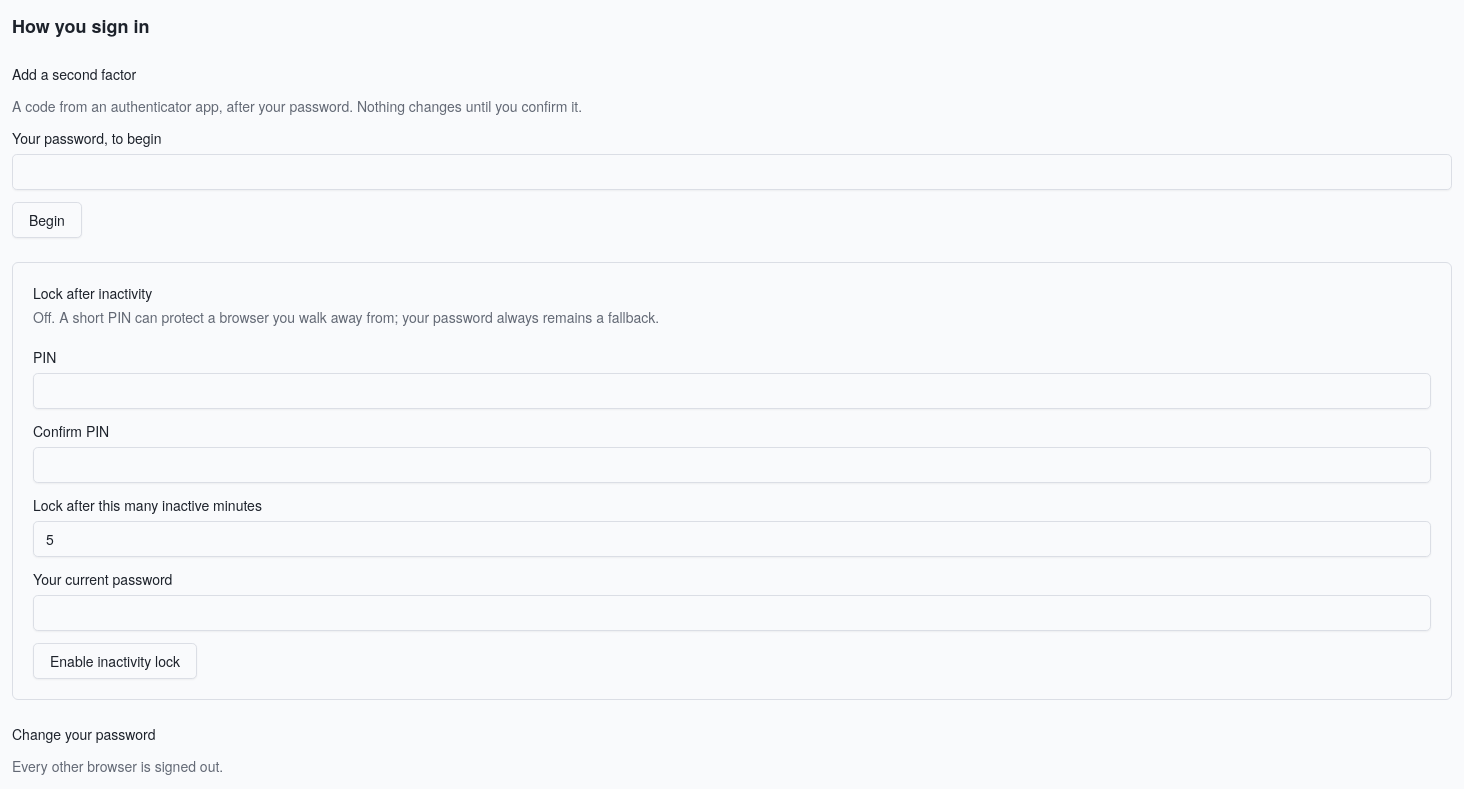
Test: how the owner signs in › does not send PINs that do not match
Type "1234" into the password field labelled "PIN" at (732, 391), box [33,373,1431,409]
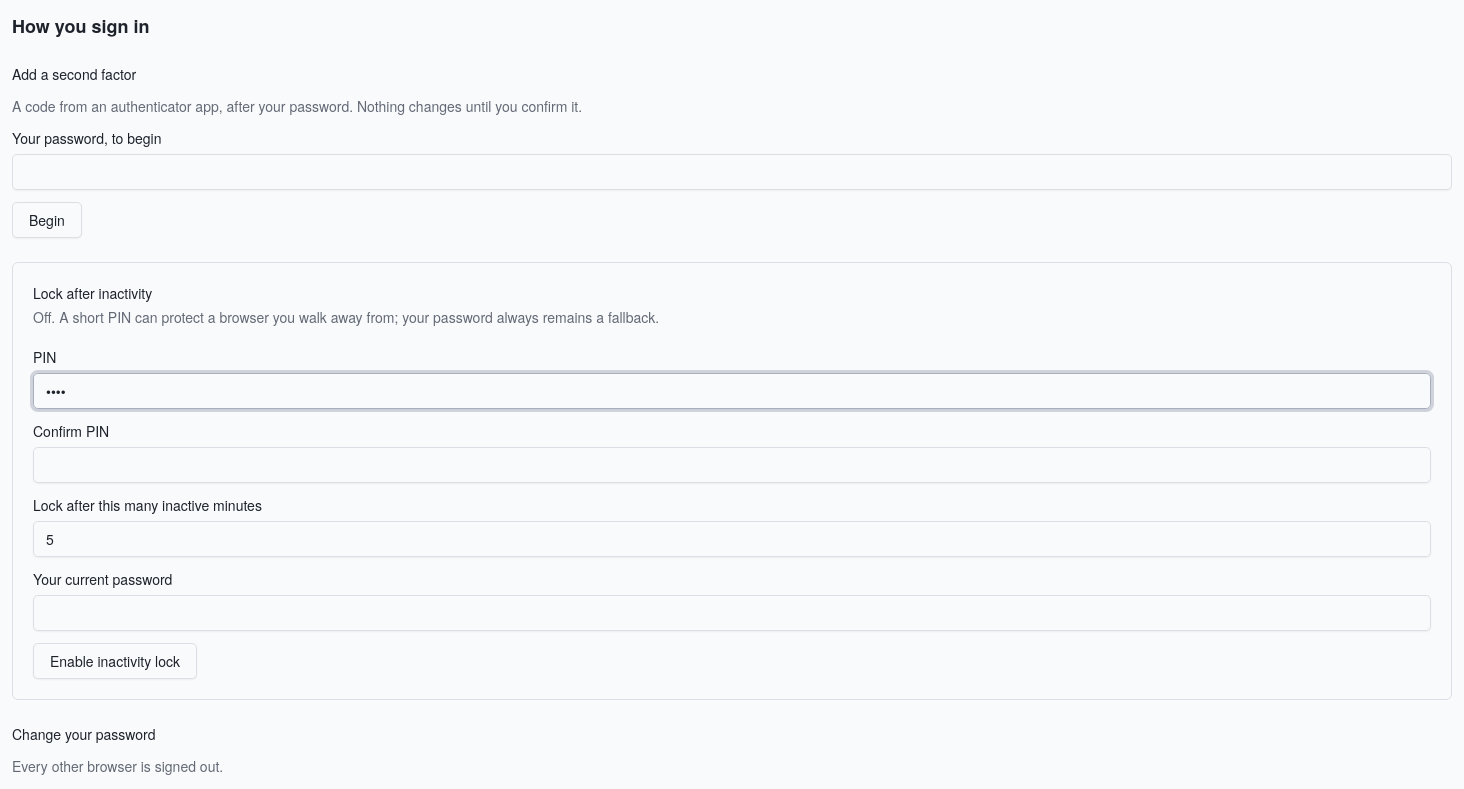
Type "1235" into the password field labelled "Confirm PIN" at (732, 465), box [33,447,1431,483]
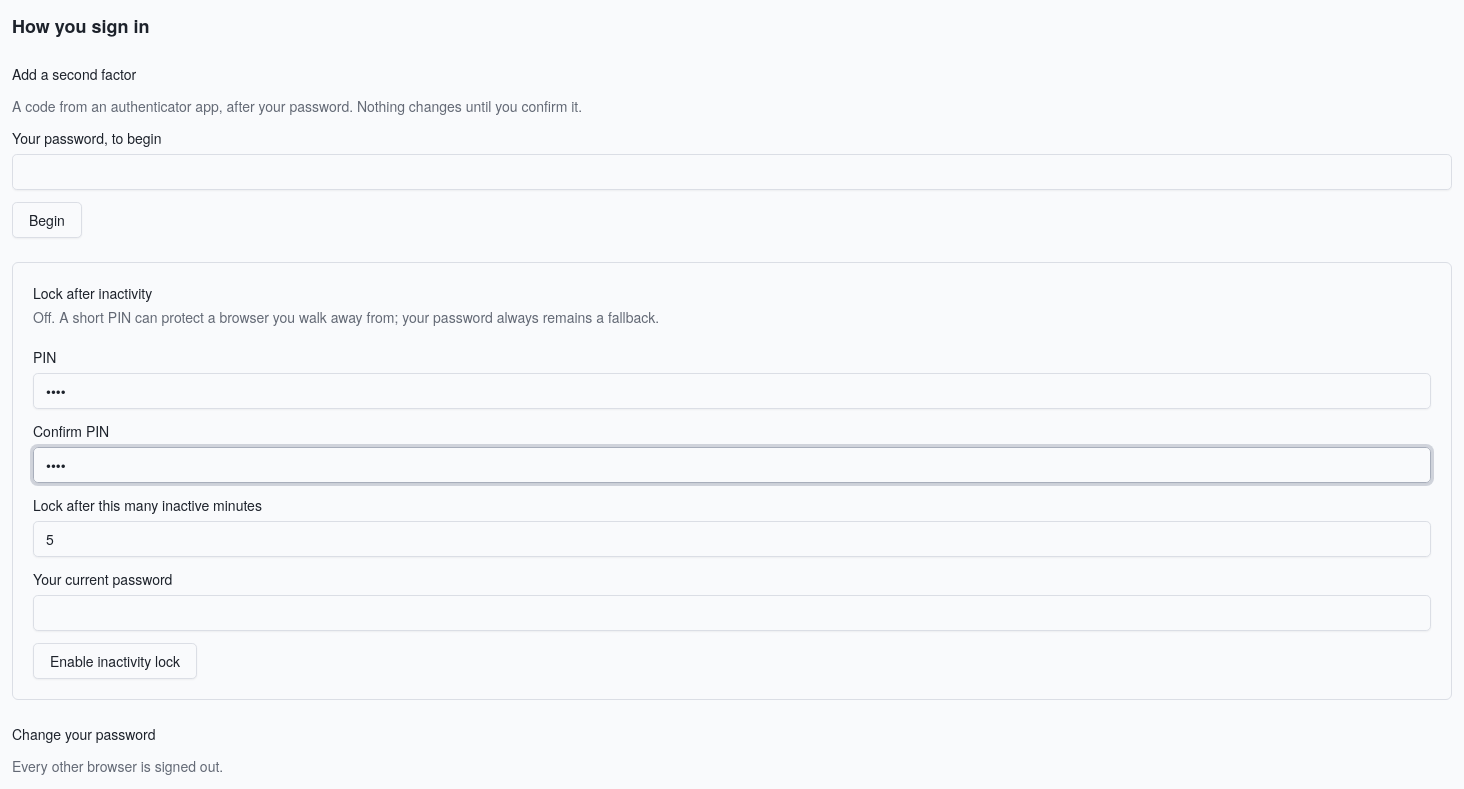
Type "the current password" into the password field labelled "Your current password" at (732, 613), box [33,595,1431,631]
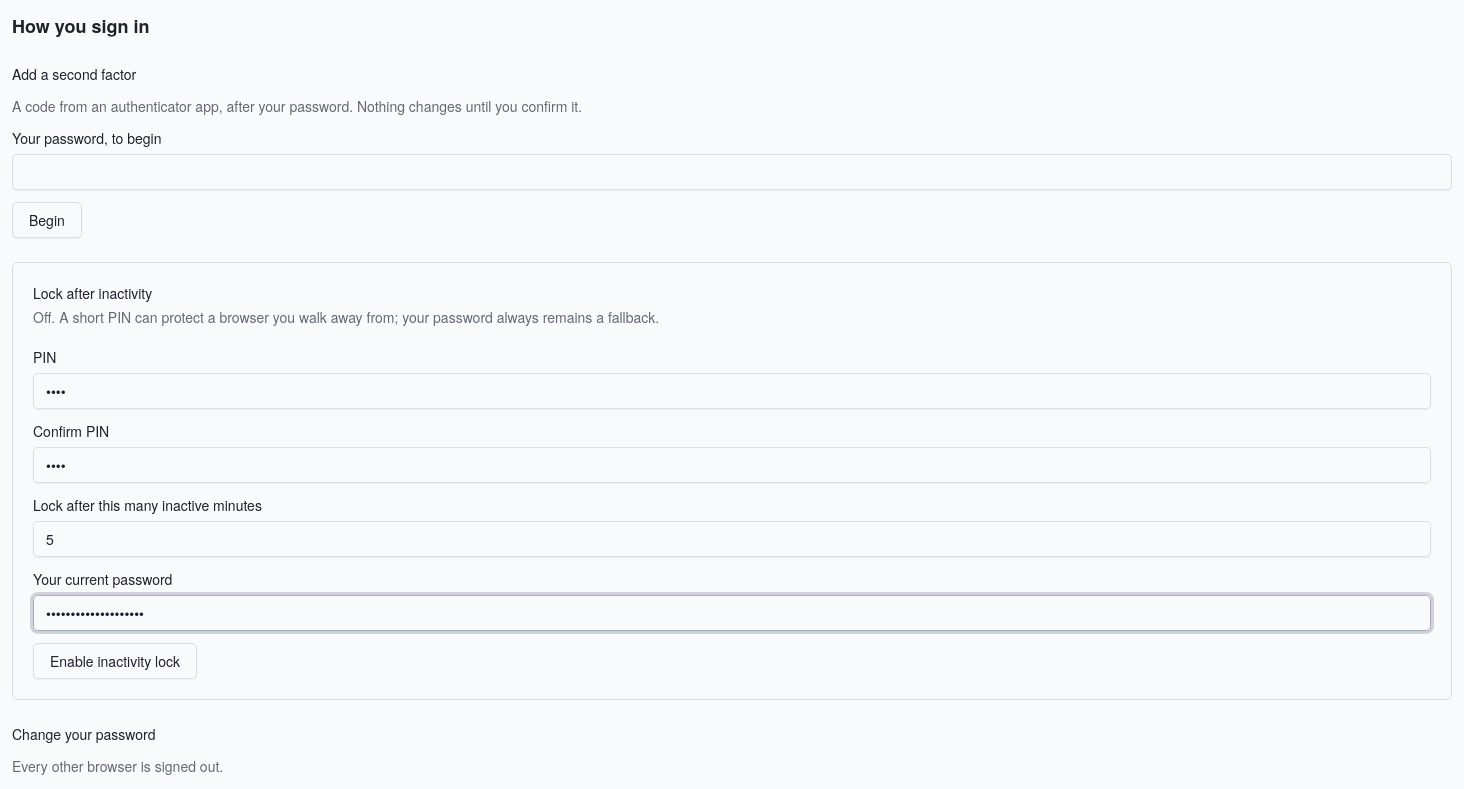
Click the button "Enable inactivity lock" at (115, 661), box [33,643,197,679]
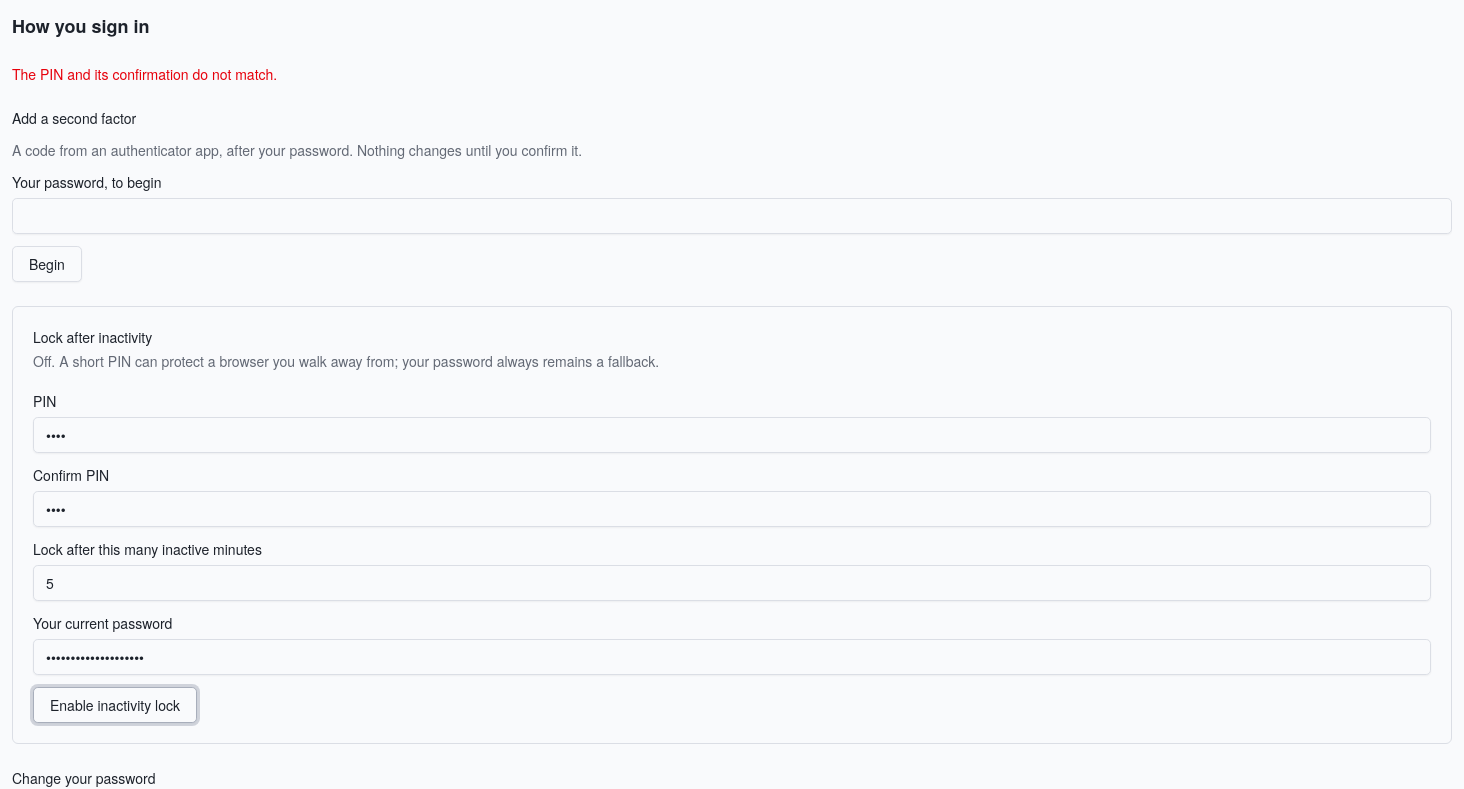
Expected: the message shows "do not match", [12,64,277,84]
